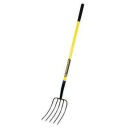fork: (39, 3, 90, 128)
